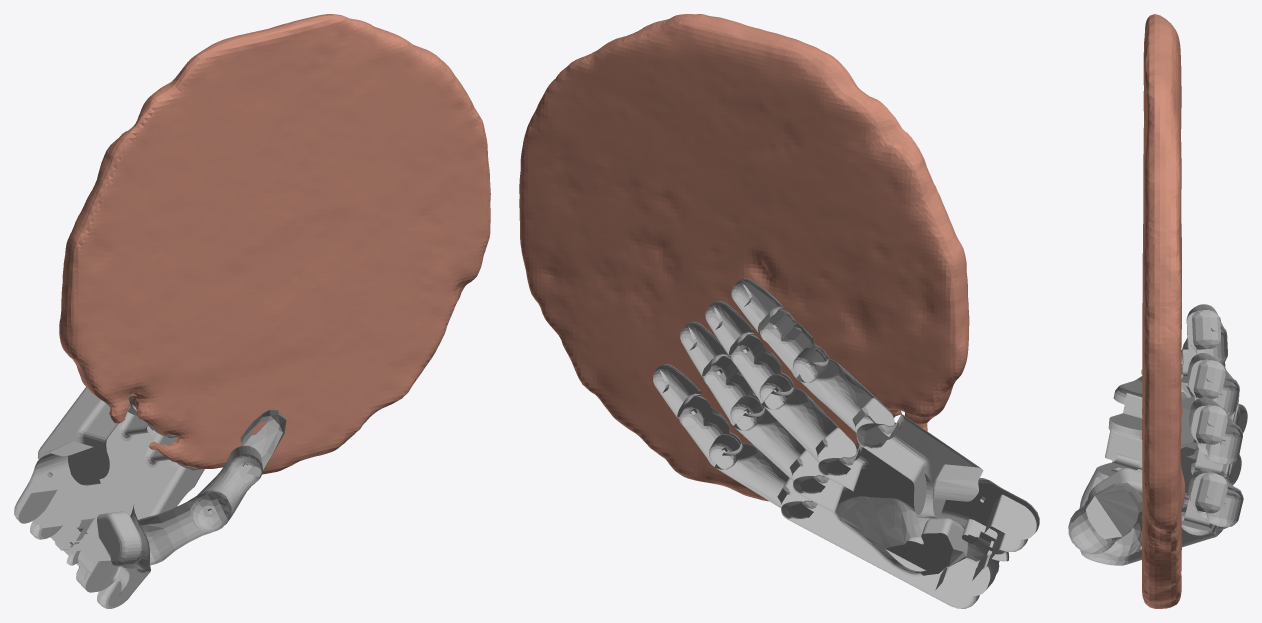
3 renders of one model, left to right at view 1: azimuth 30°, elevation 25°; view 2: azimuth 150°, elevation 25°; view 3: azimuth 270°, elevation 25°, orthographic. The views are drawn at different scales.
Visible parts, largest first — view 1: world; view 2: world; view 3: world.
Boxes of the visible parts, x1=… form: world: x1=14, y1=14, x2=490, y2=608; world: x1=519, y1=14, x2=1039, y2=608; world: x1=1068, y1=14, x2=1247, y2=608.
Bounding box in the file's own units: 1.94 × 2.02 × 0.5219.
